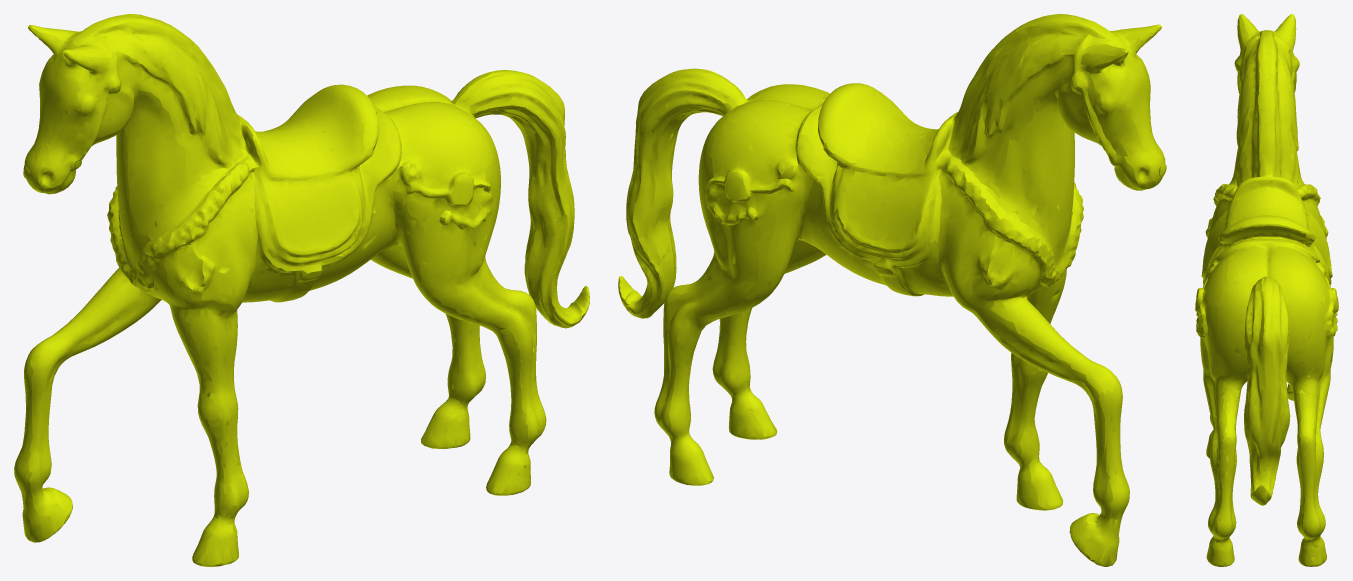
Rendered from horse2.glb.
The picture shows the model from 3 angles, left to right: view 1: azimuth 30°, elevation 25°; view 2: azimuth 150°, elevation 25°; view 3: azimuth 270°, elevation 25°; orthographic projection. The views are drawn at different scales.
Visible parts, largest first — view 1: geometry_0; view 2: geometry_0; view 3: geometry_0.
Part boxes in pixels (x1=…): geometry_0: x1=14, y1=14, x2=589, y2=566; geometry_0: x1=618, y1=14, x2=1166, y2=566; geometry_0: x1=1195, y1=14, x2=1338, y2=566.
Size of the model in its own units: 2 by 1.83 by 0.6056.
